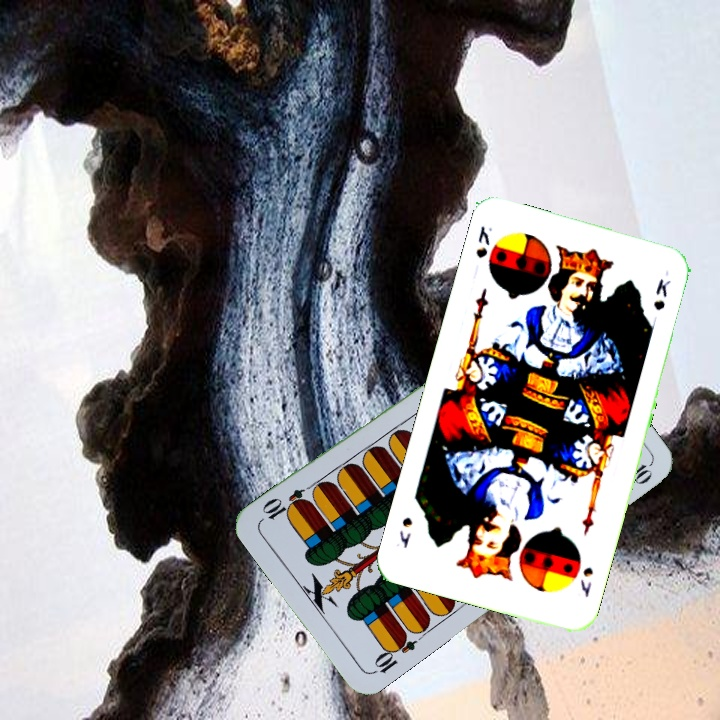E10: (368, 629, 419, 677)
SK: (471, 221, 495, 261), (576, 563, 596, 601)
